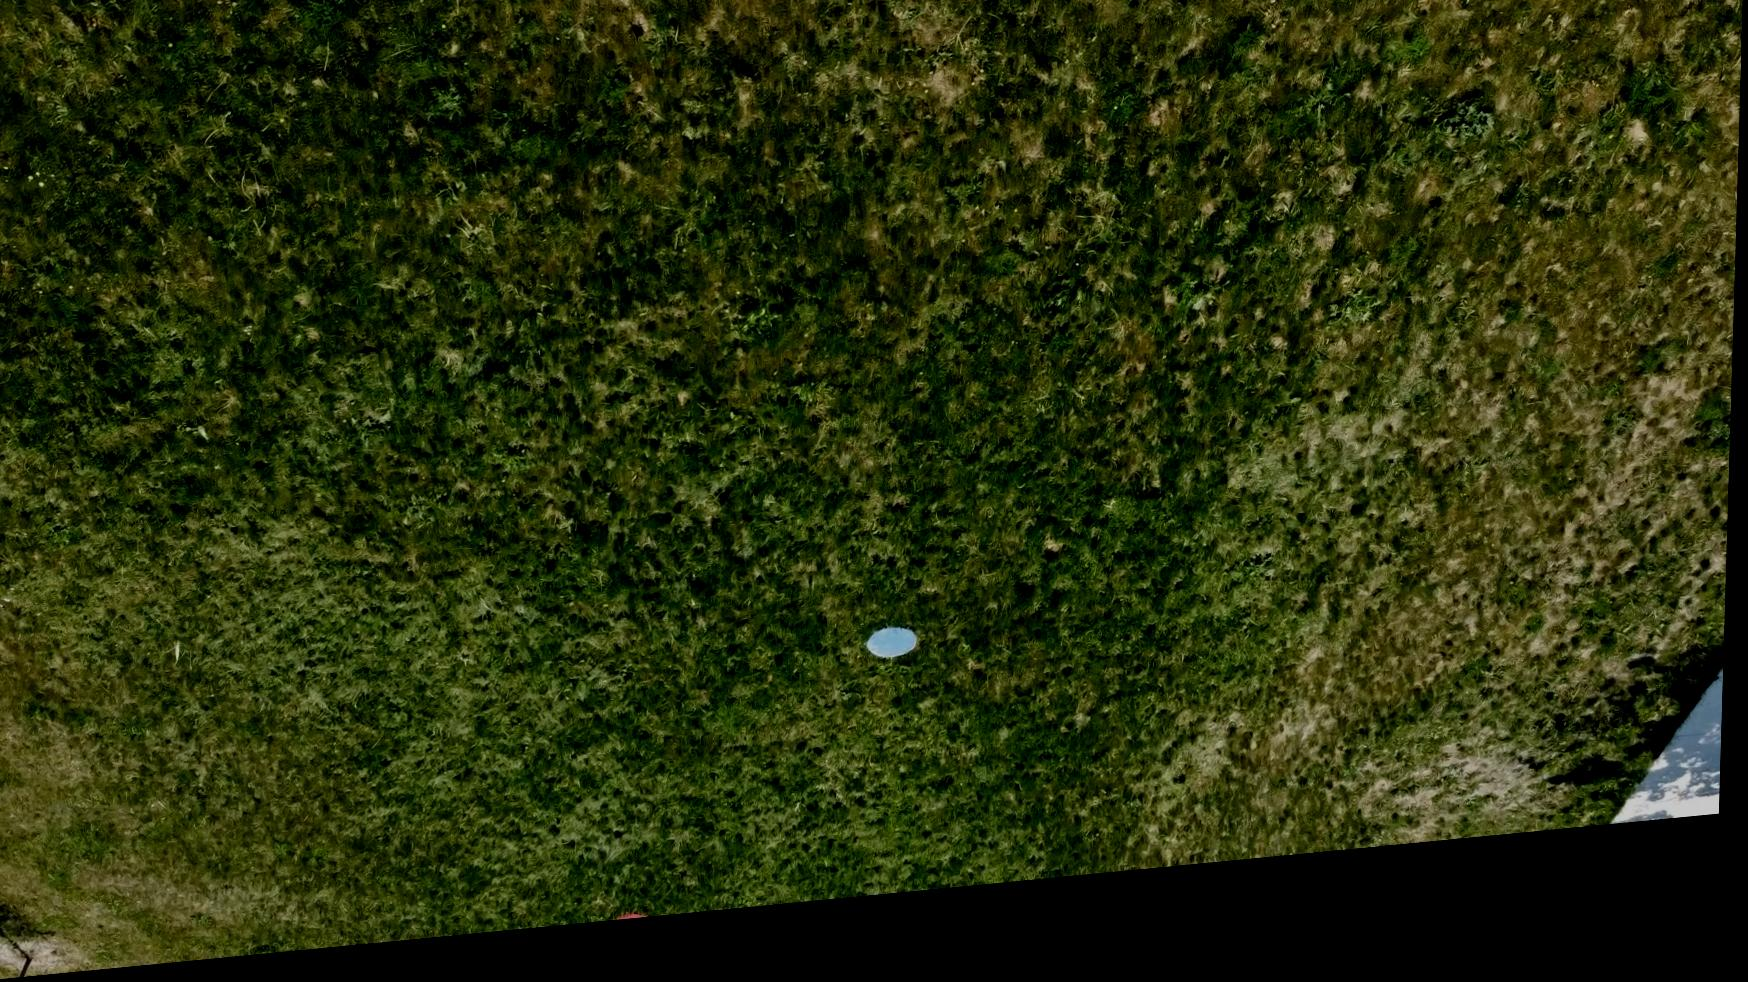Blue: (867, 642, 926, 681)
Red: (618, 924, 663, 934)
